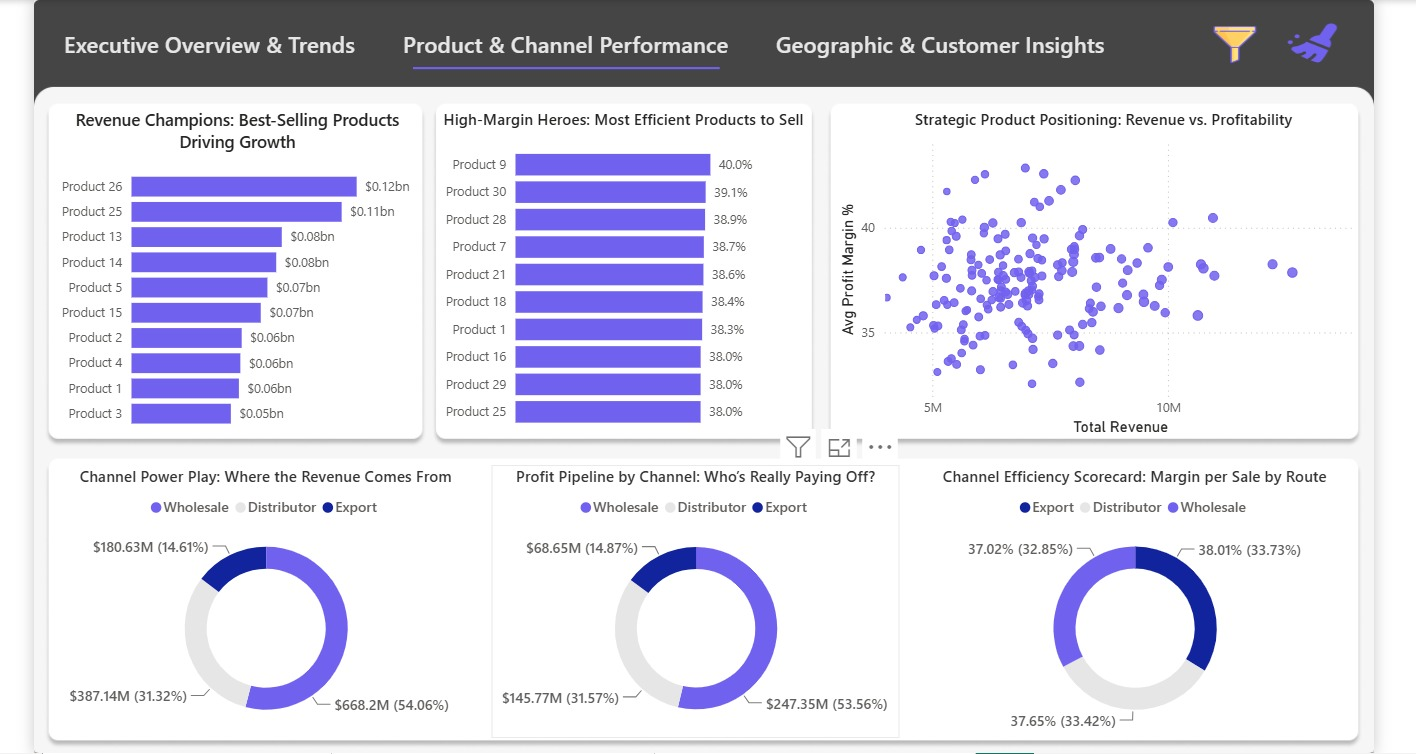

What the dashboard file says about the page in this screenshot:
{"tool":"powerbi","page":{"name":"Product & Channel Performance","canvas":[1280,720],"ordinal":1},"visuals":[{"type":"barChart","title":"Revenue Champions: Best-Selling Products Driving Growth","fields":{"Category":["Sales_data.product_name"],"Y":["Measures_.Total Revenue"]},"box":[16,103,357,316],"z":0},{"type":"scatterChart","title":"Strategic Product Positioning: Revenue vs. Profitability","fields":{"Size":["Sum(Customer Summary.Order Count)"],"X":["Customer Summary.Total Revenue"],"Y":["Customer Summary.Avg Profit Margin %"]},"box":[764,103,516,317],"z":1000},{"type":"barChart","title":"High-Margin Heroes: Most Efficient Products to Sell","fields":{"Category":["Sales_data.product_name"],"Y":["Measures_.Profit Margin %"]},"box":[382,103,361,316],"z":2000},{"type":"donutChart","title":"Channel Power Play: Where the Revenue Comes From","fields":{"Category":["Sales_data.channel"],"Y":["Measures_.Total Revenue"]},"box":[16.7,443.3,408.3,261.7],"z":3000},{"type":"donutChart","title":"Profit Pipeline by Channel: Who’s Really Paying Off?","fields":{"Category":["Sales_data.channel"],"Y":["Measures_.Total Profit"]},"box":[436.7,443.3,390,261.7],"z":4000},{"type":"donutChart","title":"Channel Efficiency Scorecard: Margin per Sale by Route","fields":{"Category":["Sales_data.channel"],"Y":["Measures_.Profit Margin %"]},"box":[843.3,443.3,415,261.7],"z":5000},{"type":"actionButton","box":[337.2,14.1,342.3,55.1],"z":6000},{"type":"actionButton","box":[9,14.1,317.9,55.1],"z":7000},{"type":"actionButton","box":[695,13.8,341.2,55],"z":8000},{"type":"actionButton","box":[1188,14,70,55],"z":9000},{"type":"actionButton","box":[1120,21,53,42],"z":10000}]}

Visuals, with their boxes on the page's 1280x720 design canvas (x1, y1, x2, y2). These are canvas units, not pixel positions in the 1416x754 screenshot, which may show the page scaled, cropped or inside an application window:
"Revenue Champions: Best-Selling Products Driving Growth" barChart: {"left": 16, "top": 103, "right": 373, "bottom": 419}
"Strategic Product Positioning: Revenue vs. Profitability" scatterChart: {"left": 764, "top": 103, "right": 1280, "bottom": 420}
"High-Margin Heroes: Most Efficient Products to Sell" barChart: {"left": 382, "top": 103, "right": 743, "bottom": 419}
"Channel Power Play: Where the Revenue Comes From" donutChart: {"left": 17, "top": 443, "right": 425, "bottom": 705}
"Profit Pipeline by Channel: Who’s Really Paying Off?" donutChart: {"left": 437, "top": 443, "right": 827, "bottom": 705}
"Channel Efficiency Scorecard: Margin per Sale by Route" donutChart: {"left": 843, "top": 443, "right": 1258, "bottom": 705}
actionButton: {"left": 337, "top": 14, "right": 680, "bottom": 69}
actionButton: {"left": 9, "top": 14, "right": 327, "bottom": 69}
actionButton: {"left": 695, "top": 14, "right": 1036, "bottom": 69}
actionButton: {"left": 1188, "top": 14, "right": 1258, "bottom": 69}
actionButton: {"left": 1120, "top": 21, "right": 1173, "bottom": 63}
